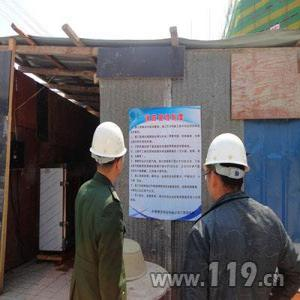white: (206, 129, 248, 204), (90, 121, 128, 183)
